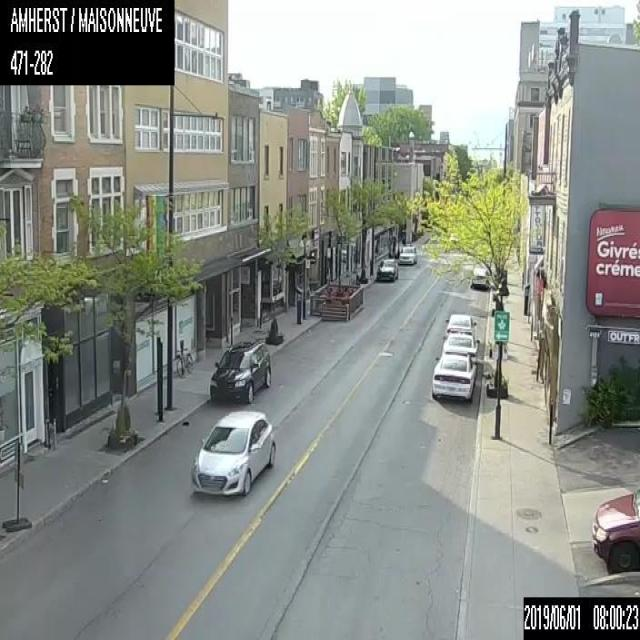vehicle: (190, 407, 276, 497), (207, 338, 271, 406), (592, 487, 639, 574), (432, 351, 476, 401), (442, 333, 478, 362), (444, 314, 475, 339), (375, 257, 398, 281), (470, 265, 488, 289), (398, 244, 416, 264)
